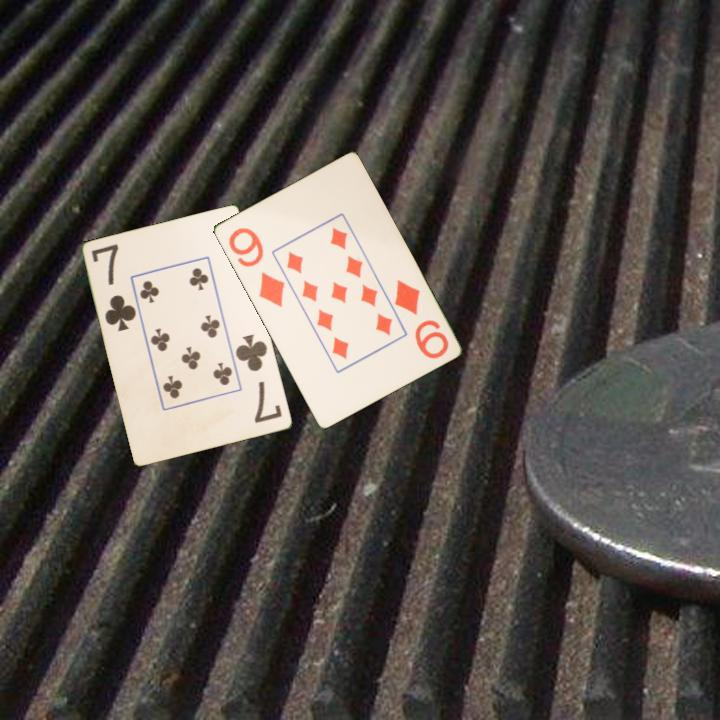7c: (232, 330, 285, 426), (88, 240, 139, 335)
9d: (225, 224, 287, 310), (390, 276, 451, 362)
